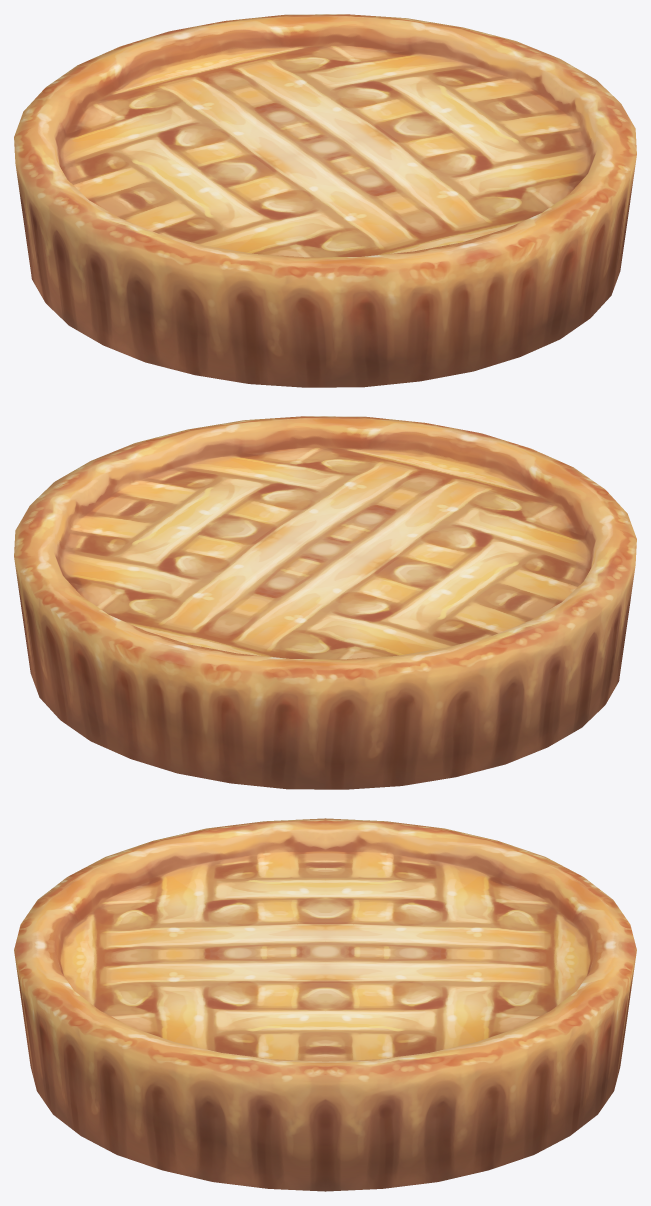
The model's file is pie.glb.
3 renders of one model, top to bottom at view 1: azimuth 30°, elevation 25°; view 2: azimuth 150°, elevation 25°; view 3: azimuth 270°, elevation 25°, orthographic.
Parts seen in each view (by area): view 1: Cylinder; view 2: Cylinder; view 3: Cylinder.
Boxes of the visible parts, x1,y1,x2,y2 form: Cylinder: (14,14,636,387); Cylinder: (14,416,636,789); Cylinder: (14,818,636,1191).
Bounding box in the file's own units: 1 × 0.2169 × 1.
1 material, 1 textured.
